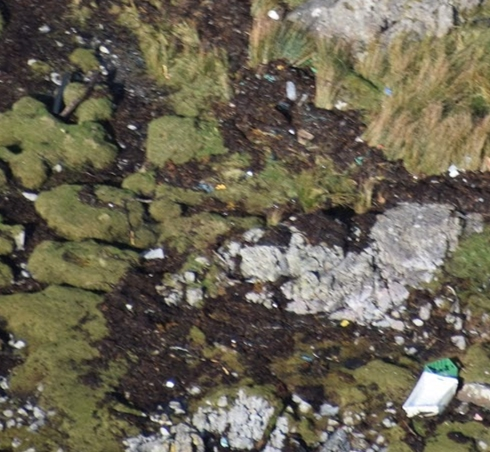cuboid: (398, 363, 464, 425), (414, 351, 467, 384)
scattered_barrel: (253, 3, 319, 112)
white_in_green: (191, 165, 243, 207), (366, 72, 413, 111), (431, 152, 478, 191)
